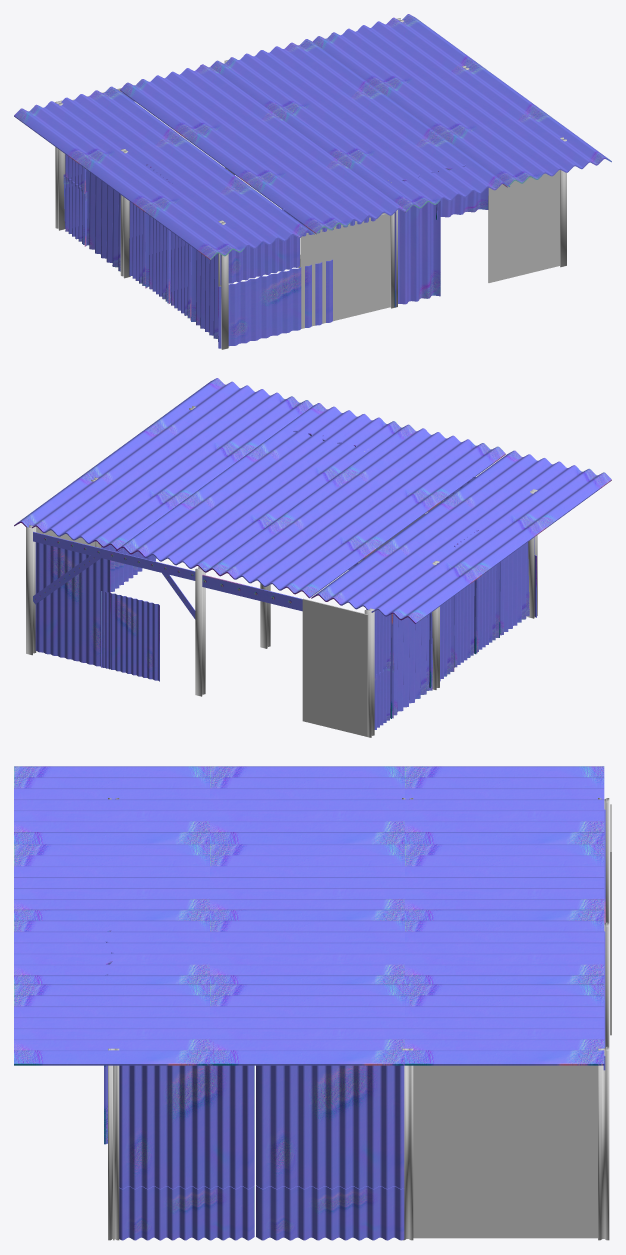
Rendered from SlumHouse5.fbx.
The picture shows the model from 3 angles, top to bottom: view 1: azimuth 30°, elevation 25°; view 2: azimuth 150°, elevation 25°; view 3: azimuth 270°, elevation 25°; orthographic projection. The views are drawn at different scales.
Parts seen in each view (by area): view 1: Support_4__1_, Tin_sheet_4__9_, Tin_sheet_4__4_, Support_4, Tin_sheet_4__13_, Tin_sheet_4__6_, Tin_sheet_4__1_, Tin_sheet_4__2_, Tin_sheet_4__7_, Tin_sheet_4__10_, Tin_sheet_4__11_, Tin_sheet_3__4_ (+18 smaller); view 2: Support_2, Tin_sheet_3__2_, Tin_sheet_4__4_, Tin_sheet_4__9_, Tin_sheet_4__1_, Tin_sheet_4__2_, Tin_sheet_4__13_, Tin_sheet_4__10_, Tin_sheet_4__6_, Tin_sheet_4__7_, Tin_sheet_4__11_, Tin_sheet_4__3_ (+20 smaller); view 3: Support_4__2_, Tin_sheet_3__8_, Tin_sheet_3__7_, Tin_sheet_4__1_, Tin_sheet_4__6_, Tin_sheet_4__10_, Tin_sheet_4__4_, Tin_sheet_4__9_, Tin_sheet_4__13_, Tin_sheet_4__3_, Tin_sheet_4__8_, Tin_sheet_4__12_ (+10 smaller).
Boxes of the visible parts, box(x1,y1,x2,y2) form: Support_4__1_: box(300, 213, 390, 328); Tin_sheet_4__9_: box(144, 182, 314, 259); Tin_sheet_4__4_: box(14, 86, 183, 163); Support_4: box(488, 170, 559, 282); Tin_sheet_4__13_: box(79, 135, 247, 211); Tin_sheet_4__6_: box(444, 110, 611, 187); Tin_sheet_4__1_: box(312, 14, 480, 89); Tin_sheet_4__2_: box(210, 39, 377, 115); Tin_sheet_4__7_: box(342, 135, 509, 212); Tin_sheet_4__10_: box(379, 62, 545, 137); Tin_sheet_4__11_: box(277, 87, 441, 162); Tin_sheet_3__4_: box(218, 259, 332, 348); Support_2: box(302, 598, 368, 736); Tin_sheet_3__2_: box(35, 542, 110, 669); Tin_sheet_4__4_: box(311, 545, 481, 623); Tin_sheet_4__9_: box(444, 450, 611, 528); Tin_sheet_4__1_: box(14, 473, 183, 551); Tin_sheet_4__2_: box(116, 498, 284, 576); Tin_sheet_4__13_: box(378, 498, 546, 575); Tin_sheet_4__10_: box(82, 425, 247, 500); Tin_sheet_4__6_: box(146, 378, 313, 453); Tin_sheet_4__7_: box(249, 403, 415, 478); Tin_sheet_4__11_: box(185, 450, 349, 525); Tin_sheet_4__3_: box(206, 520, 375, 598); Support_4__2_: box(413, 1065, 597, 1238); Tin_sheet_3__8_: box(256, 1065, 404, 1188); Tin_sheet_3__7_: box(119, 1065, 254, 1188); Tin_sheet_4__1_: box(405, 984, 604, 1065); Tin_sheet_4__6_: box(14, 984, 213, 1065); Tin_sheet_4__10_: box(210, 984, 409, 1065); Tin_sheet_4__4_: box(405, 766, 604, 844); Tin_sheet_4__9_: box(14, 766, 213, 844); Tin_sheet_4__13_: box(210, 766, 404, 844); Tin_sheet_4__3_: box(405, 844, 604, 920); Tin_sheet_4__8_: box(14, 844, 209, 920); Tin_sheet_4__12_: box(210, 844, 404, 920).
Bounding box in the file's own units: 356 × 110 × 305.
